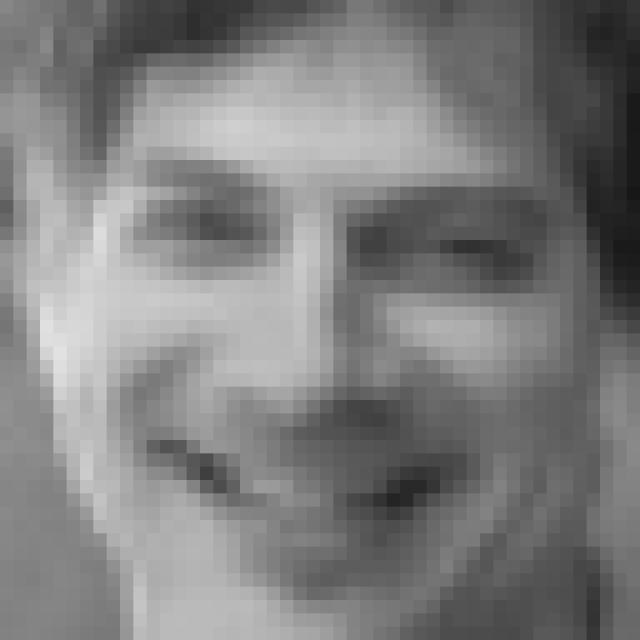happy: (112, 146, 569, 604)
